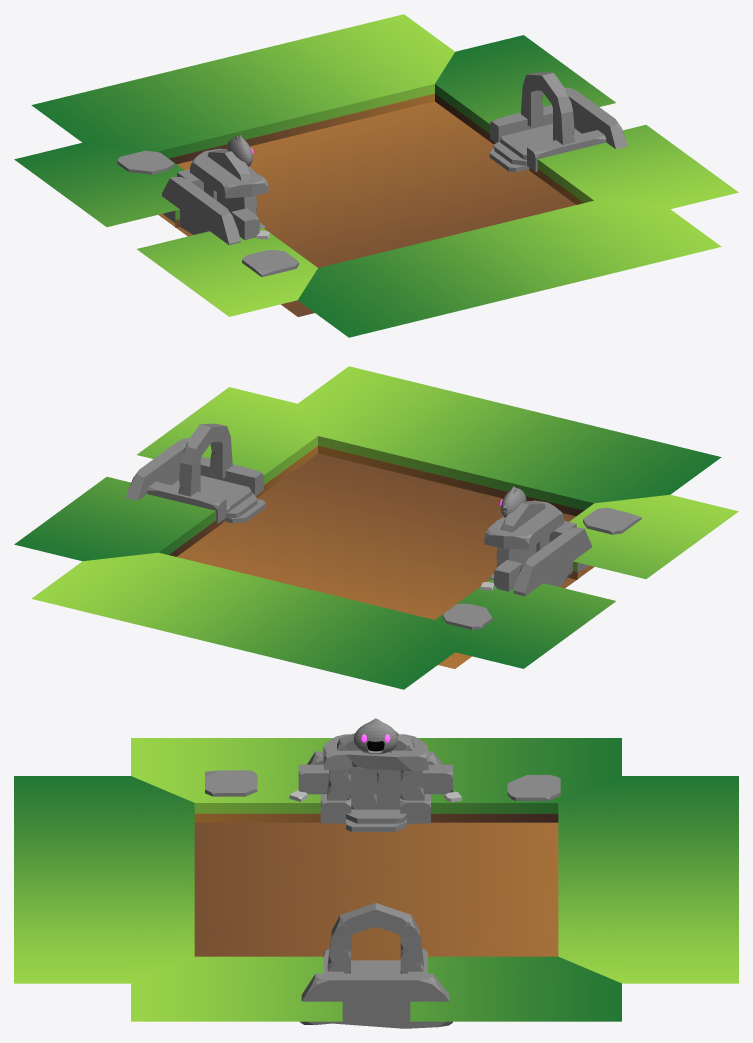
File: Enviro.fbx
3 views of the same model, one above another, from view 1: azimuth 30°, elevation 25°; view 2: azimuth 150°, elevation 25°; view 3: azimuth 270°, elevation 25° (orthographic). The views are drawn at different scales.
Visible parts, largest first — view 1: Plane; view 2: Plane; view 3: Plane.
Boxes of the visible parts, <box> form: Plane: <box>14,14,738,337</box>; Plane: <box>14,366,738,689</box>; Plane: <box>14,718,738,1028</box>.
Size of the model in its own units: 5538 by 1049 by 5979.
